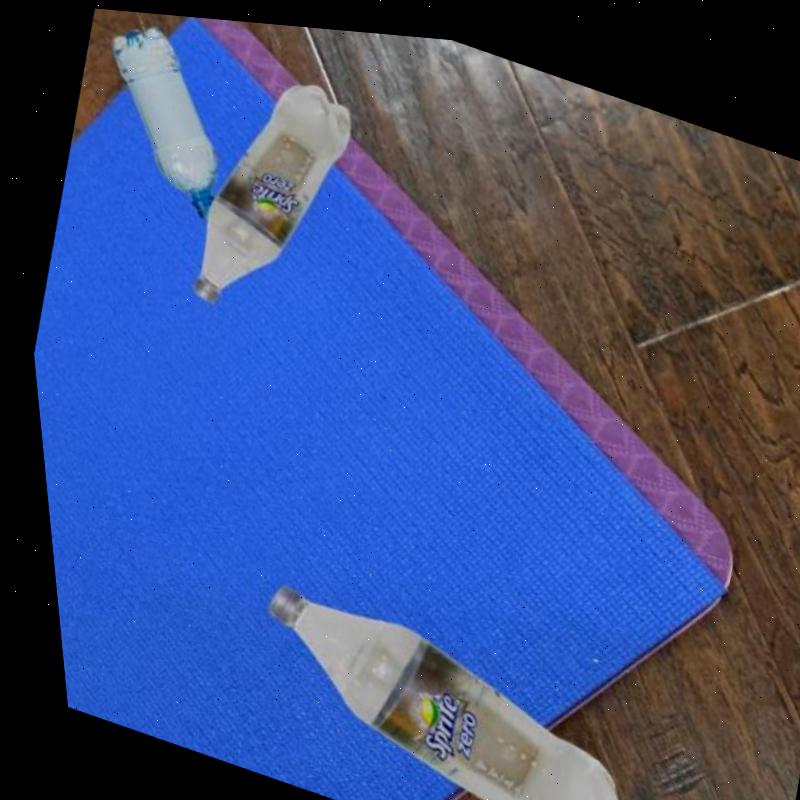botella: (217, 575, 634, 800), (167, 46, 379, 340), (65, 6, 254, 227)
